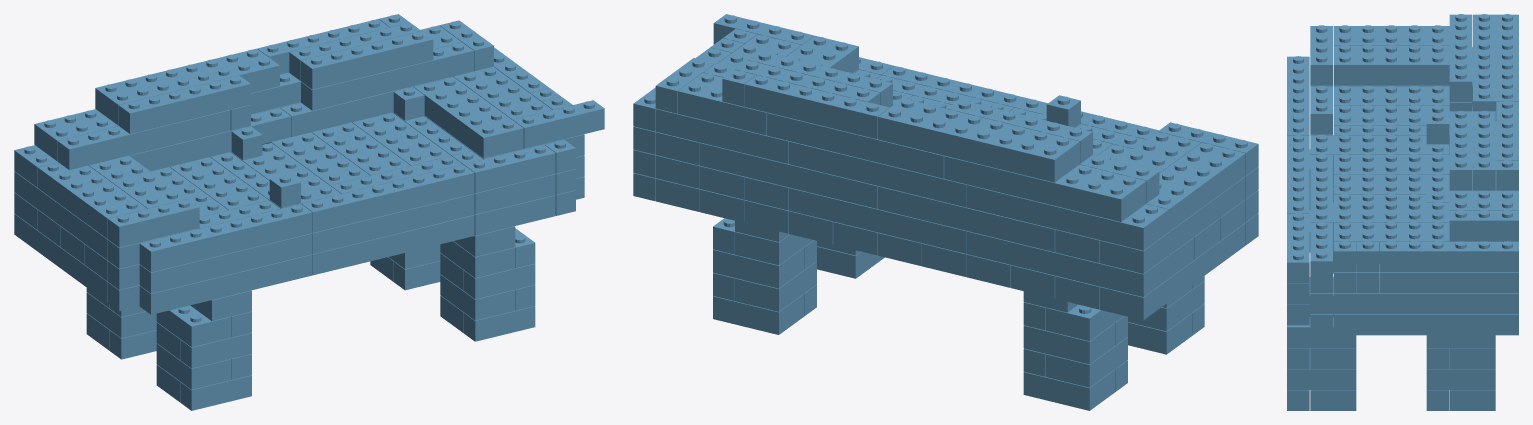
Rendered from 219_sofa_L4.glb.
3 views of the same model, side by side, from view 1: azimuth 30°, elevation 25°; view 2: azimuth 150°, elevation 25°; view 3: azimuth 270°, elevation 25° (orthographic). The views are drawn at different scales.
Size of the model in its own units: 23.98 by 11.13 by 9.98.
